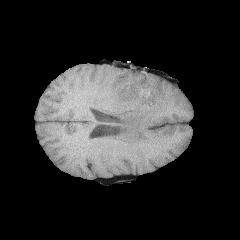glioma: (109, 69, 173, 141)
